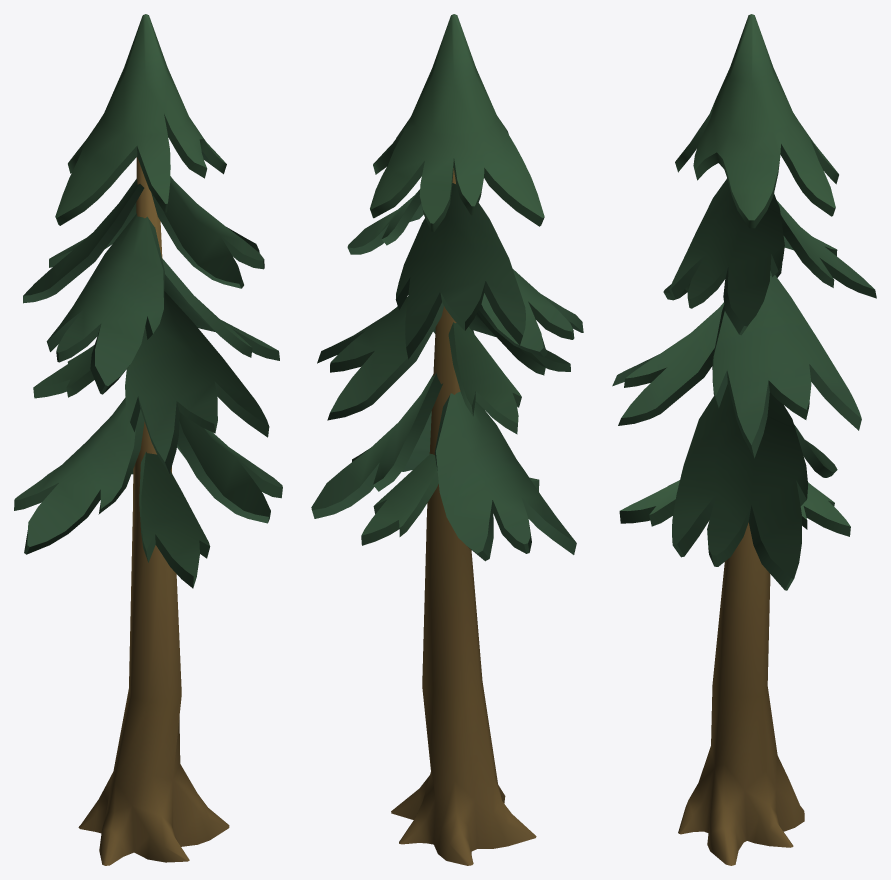
File: SM_Spruce_C.fbx
3 renders of one model, left to right at view 1: azimuth 30°, elevation 25°; view 2: azimuth 150°, elevation 25°; view 3: azimuth 270°, elevation 25°, orthographic.
Parts seen in each view (by area): view 1: SM_Spruce_C; view 2: SM_Spruce_C; view 3: SM_Spruce_C.
Part boxes in pixels (x1,y1,x2,y2): SM_Spruce_C: (14, 14, 282, 865); SM_Spruce_C: (311, 14, 583, 865); SM_Spruce_C: (612, 14, 876, 865).
Bounding box in the file's own units: 332 × 1017 × 299.
